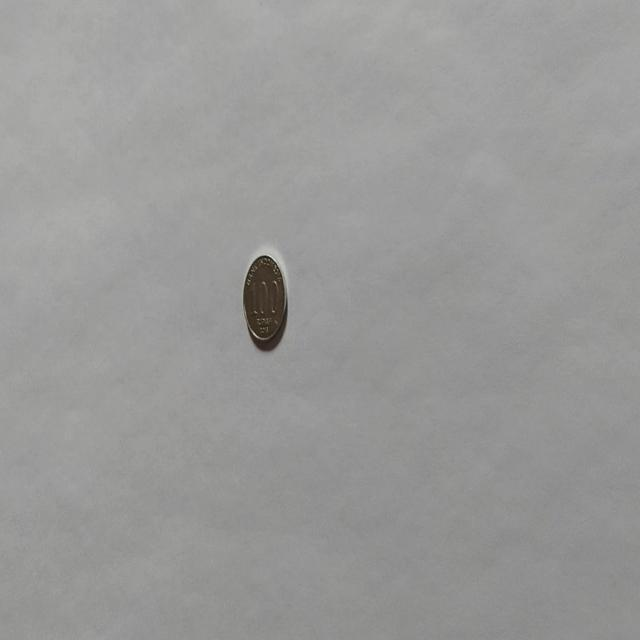seratus rupiah: (241, 252, 287, 346)
